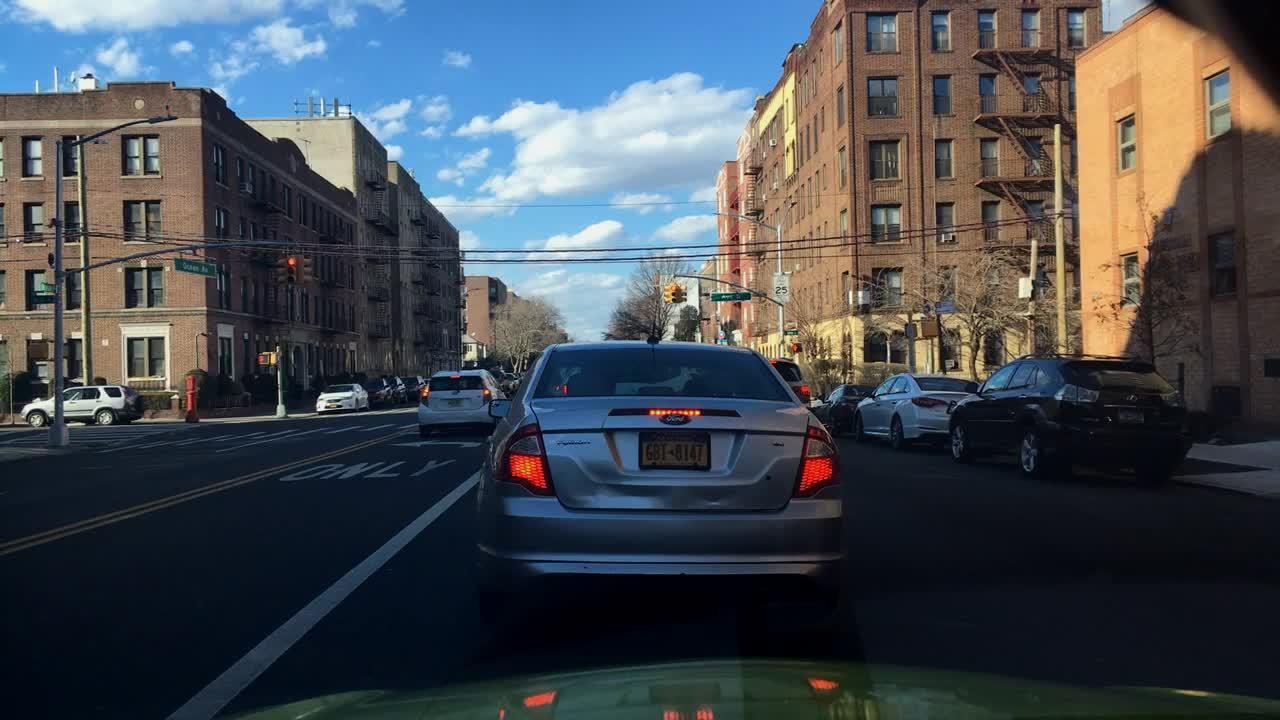ford: (659, 412, 695, 429)
lexus: (1124, 392, 1139, 407)
